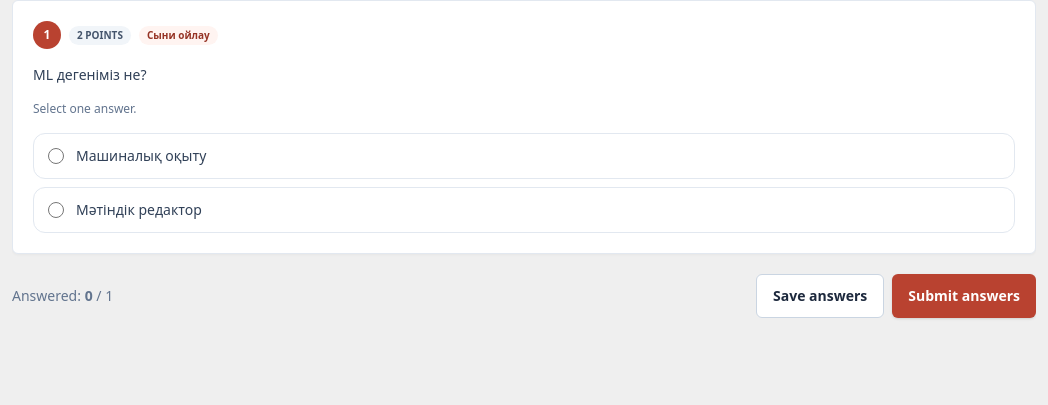
Test: QuizForm › uses English controls and validation when English is selected
Expected: the text "Select one answer." is shown, 33,100 -> 136,117
Expected: the button "Save answers" is shown, 756,274 -> 884,318
Click the button "Submit answers". click: (964,296)
box: 892,274 -> 1036,318
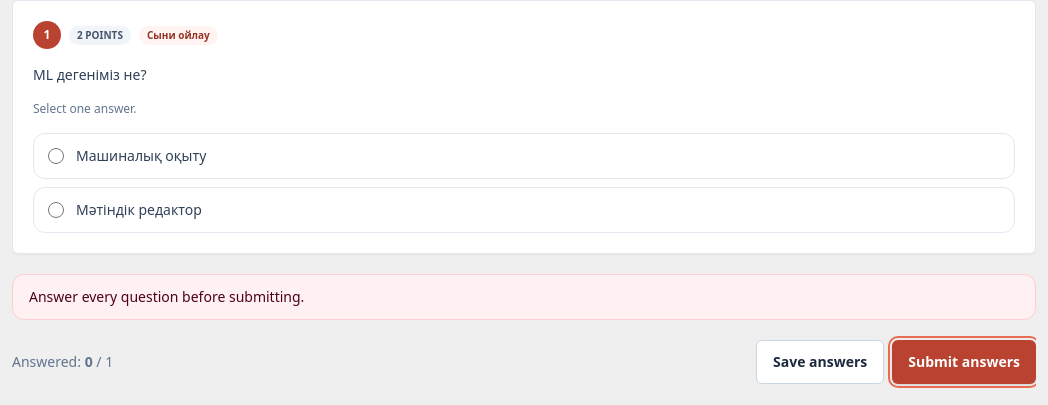
Now the text "Answer every question before submitting." is shown, box 29,287 -> 304,306
